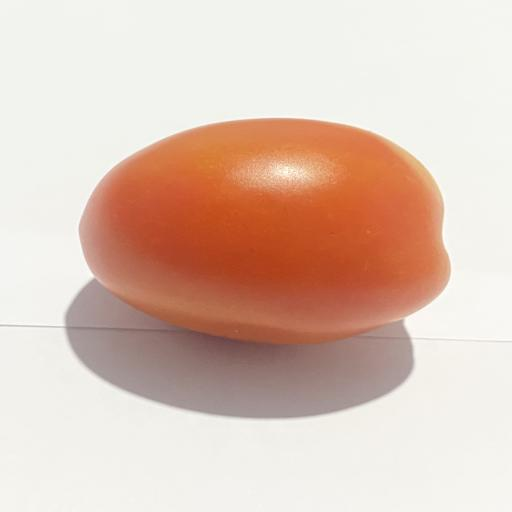ripe: (79, 119, 450, 344), (243, 208, 246, 211)
